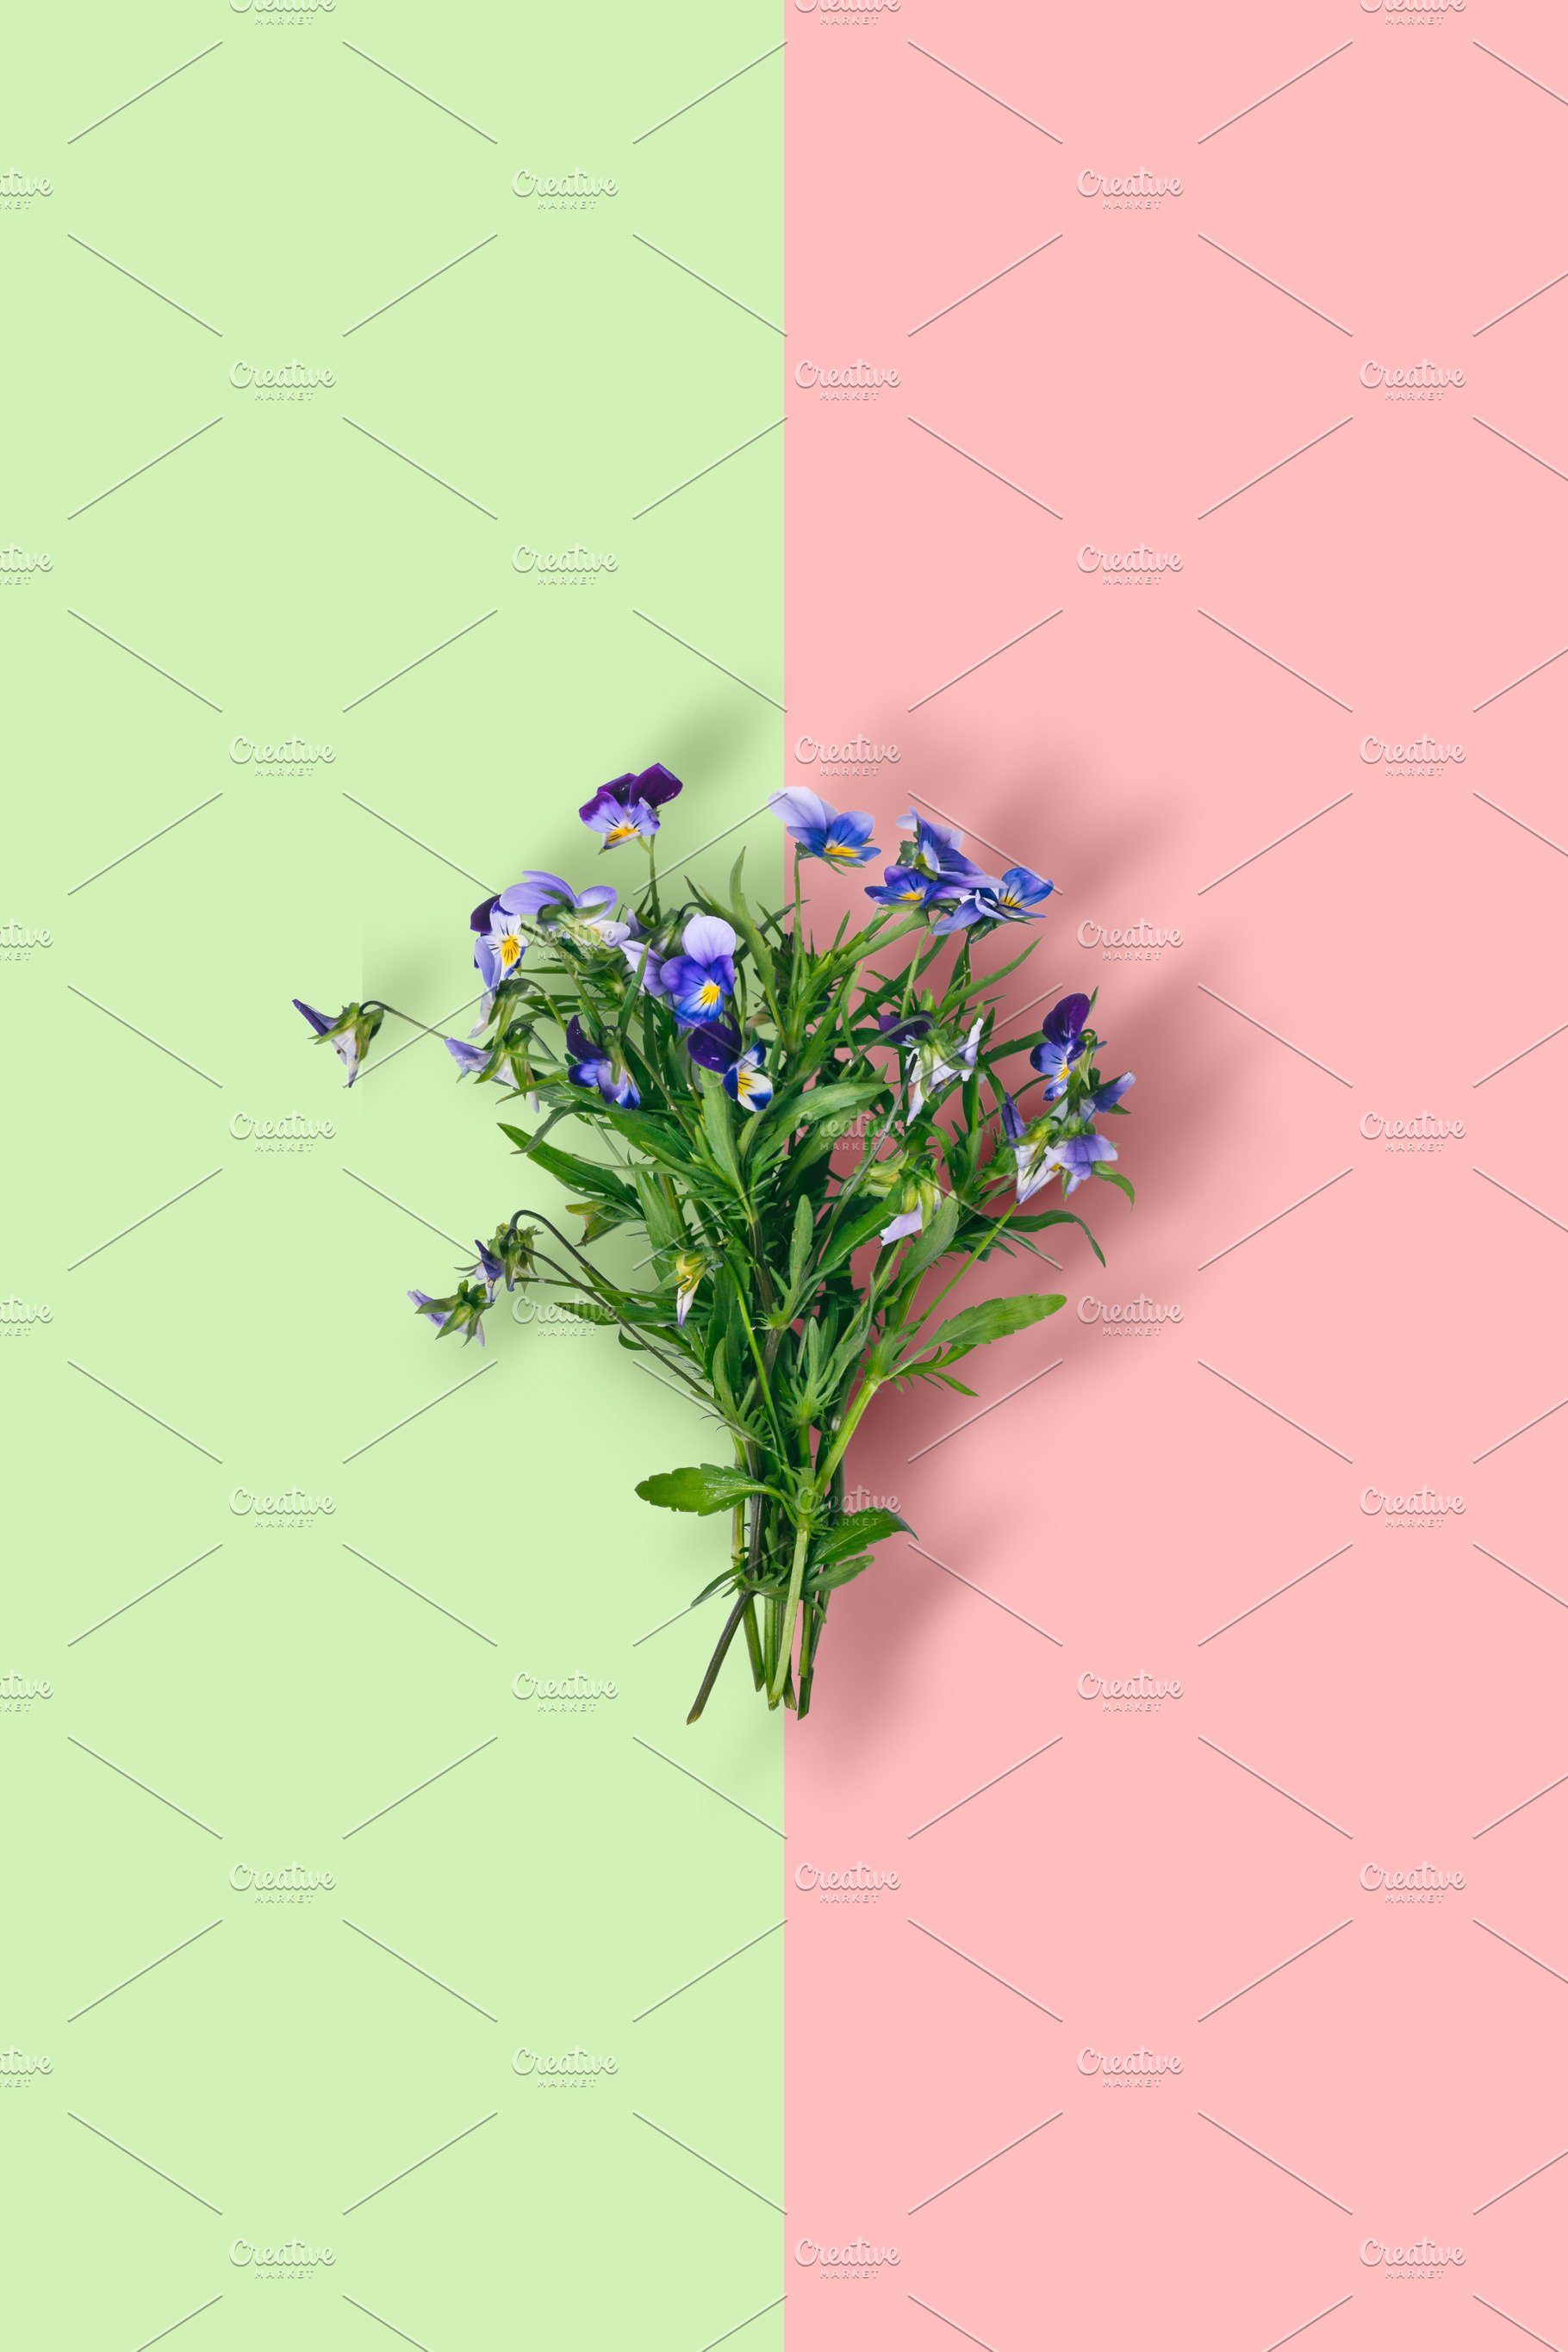violet: (870, 808, 1036, 982), (646, 901, 775, 1050), (483, 850, 623, 969), (766, 766, 877, 908), (997, 1001, 1125, 1090), (548, 773, 700, 847)
